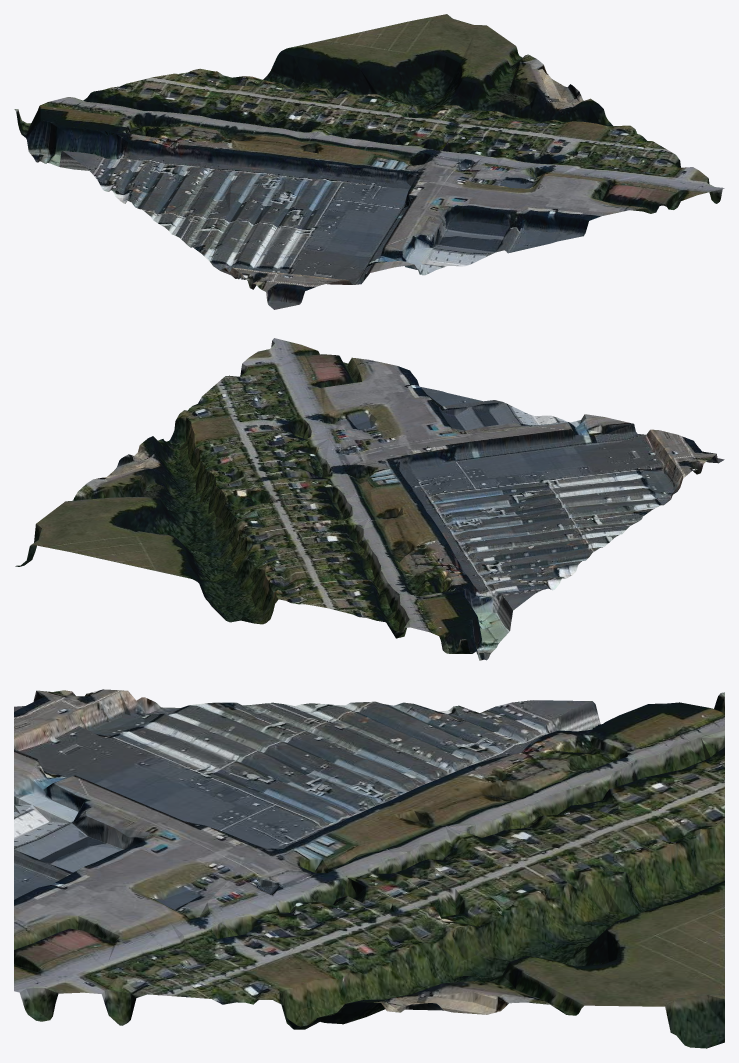
File: map_13_2046_3446.dae
The picture shows the model from 3 angles, top to bottom: view 1: azimuth 30°, elevation 25°; view 2: azimuth 150°, elevation 25°; view 3: azimuth 270°, elevation 25°; orthographic projection. The views are drawn at different scales.
Parts seen in each view (by area): view 1: Ter0; view 2: Ter0; view 3: Ter0.
Part boxes in pixels (box(x1,y1,x2,y2)): Ter0: box(14, 14, 724, 309); Ter0: box(15, 338, 724, 660); Ter0: box(14, 689, 724, 1048).
Bounding box in the file's own units: 256 × 256 × 24.05.
2 materials, 2 textured.
